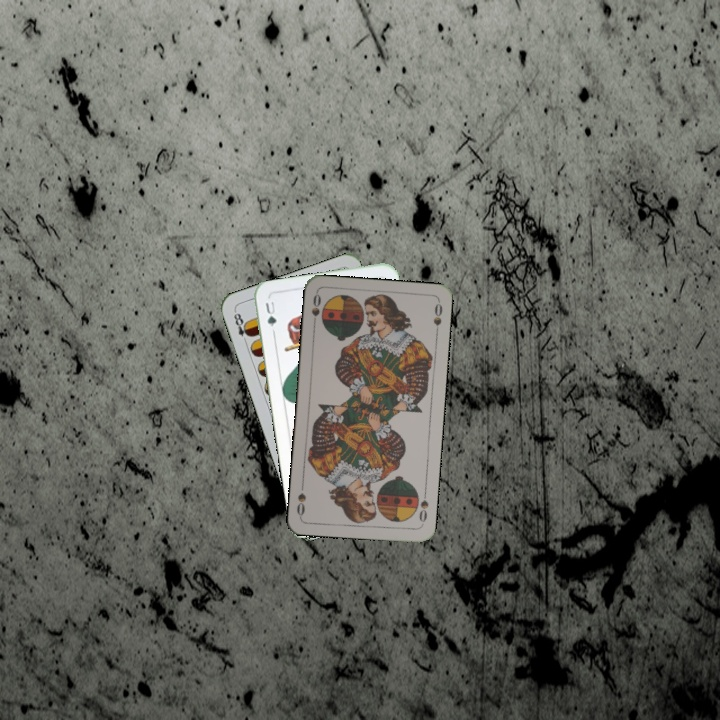E8: (230, 307, 253, 347)
GU: (261, 297, 279, 329)
SO: (308, 290, 324, 330), (415, 487, 431, 527)
